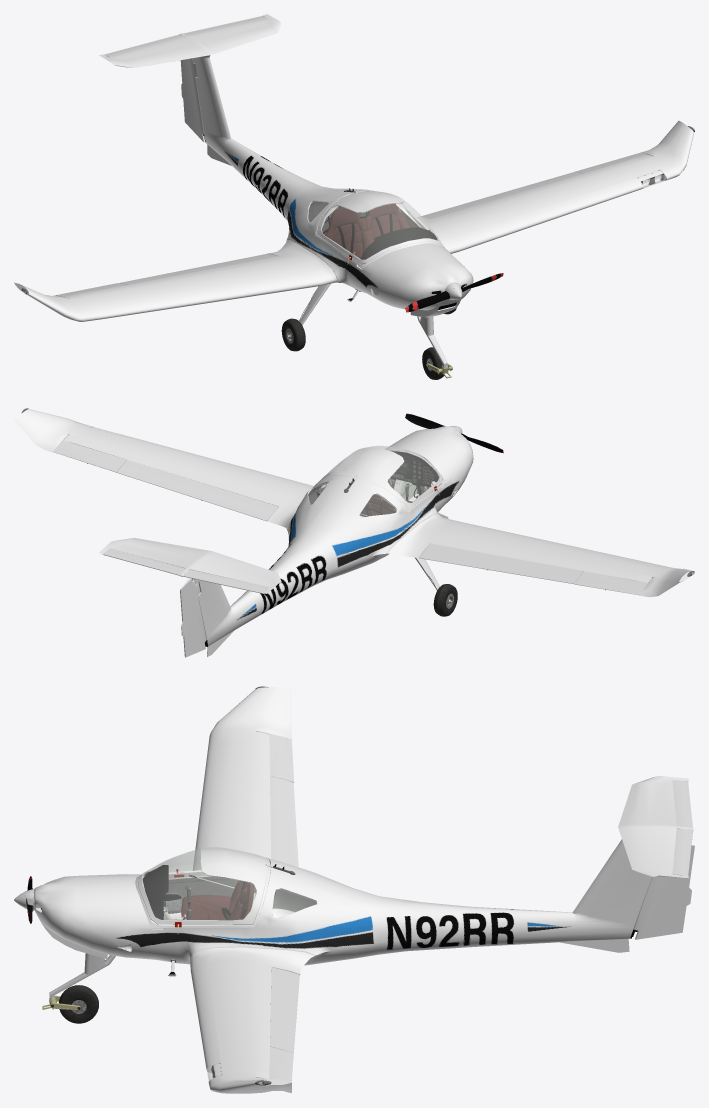
The model's file is diamond-da20-c1.glb.
3 renders of one model, top to bottom at view 1: azimuth 30°, elevation 25°; view 2: azimuth 150°, elevation 25°; view 3: azimuth 270°, elevation 25°, orthographic. The views are drawn at different scales.
Parts seen in each view (by area): view 1: diamond-da20-c1; view 2: diamond-da20-c1; view 3: diamond-da20-c1.
Boxes of the visible parts, left/top/right/bottom form: diamond-da20-c1: left=14, top=14, right=694, bottom=379; diamond-da20-c1: left=14, top=408, right=694, bottom=657; diamond-da20-c1: left=14, top=686, right=694, bottom=1093.
Size of the model in its own units: 16.52 by 3.84 by 11.97.
96 materials, 19 textured.
